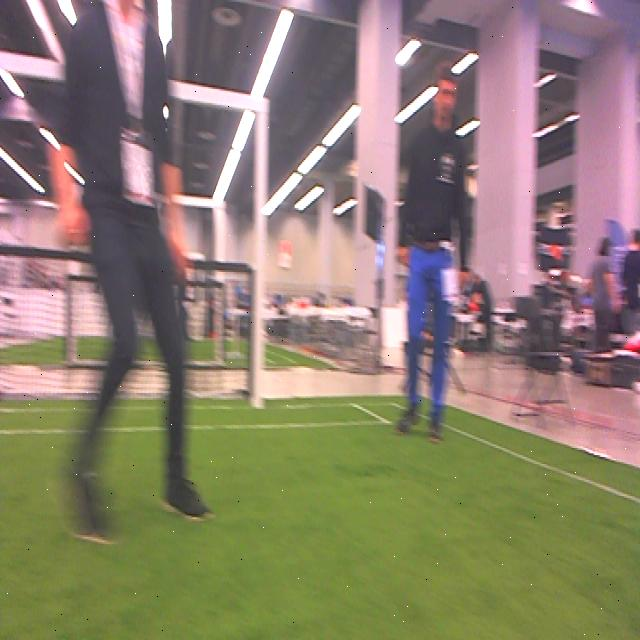goalpost: (251, 94, 270, 407)
